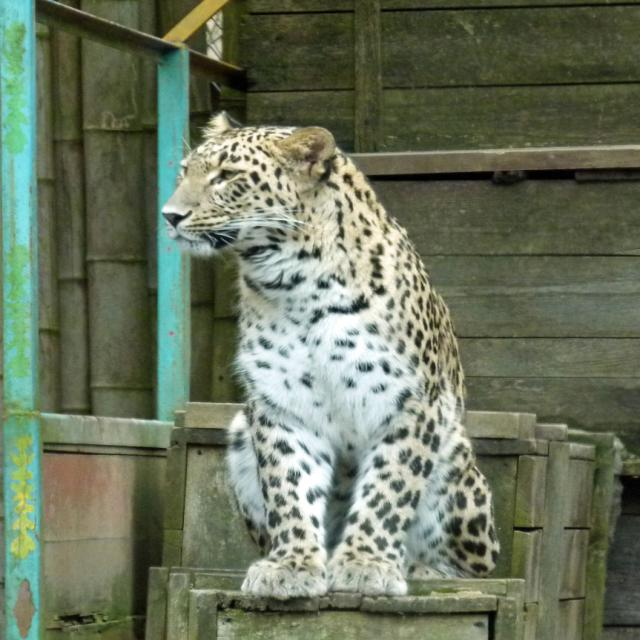Cheetah: (161, 111, 501, 604)
